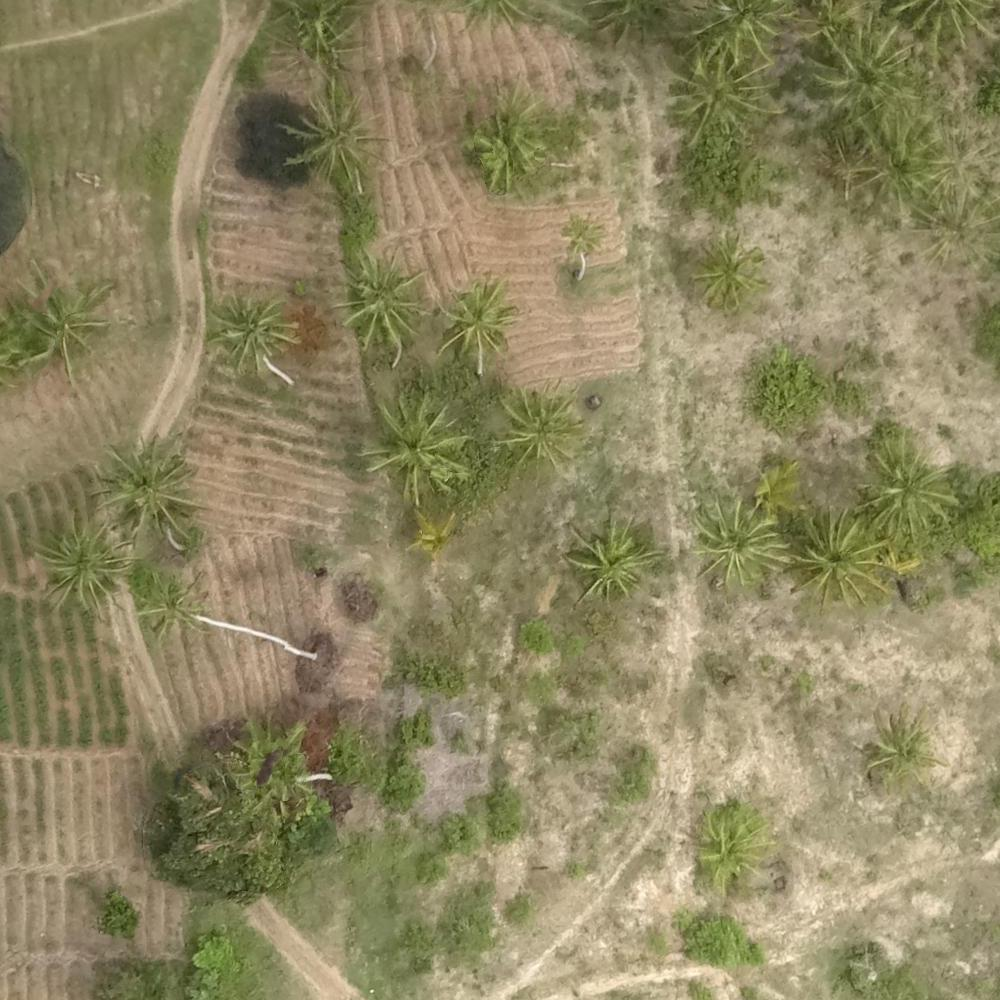Palm: (668, 46, 779, 148), (287, 85, 391, 186), (360, 391, 464, 490), (464, 83, 560, 188), (814, 22, 917, 118), (330, 248, 425, 347), (686, 497, 790, 586), (796, 506, 890, 602), (861, 432, 955, 525), (34, 514, 127, 606), (96, 438, 190, 528), (559, 512, 655, 600), (19, 281, 103, 369), (207, 286, 295, 368), (697, 799, 777, 888), (432, 276, 516, 360), (858, 706, 941, 784), (498, 385, 579, 464), (692, 229, 767, 308), (146, 569, 213, 638)
